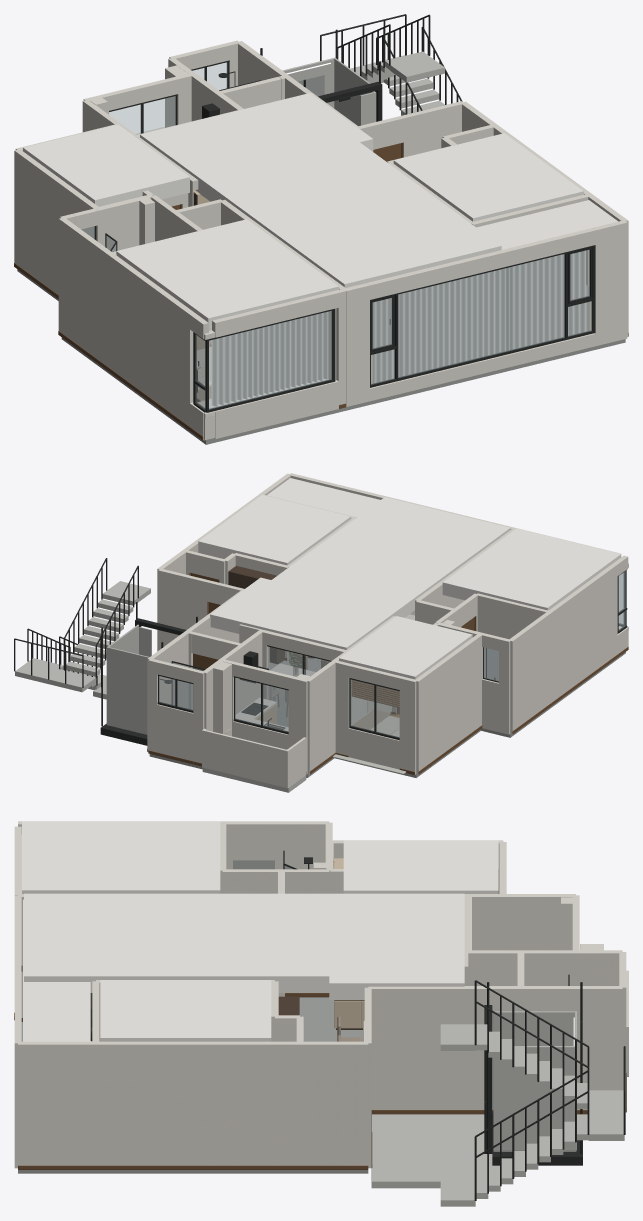
The model's file is apartment_v1.glb.
The picture shows the model from 3 angles, top to bottom: view 1: azimuth 30°, elevation 25°; view 2: azimuth 150°, elevation 25°; view 3: azimuth 270°, elevation 25°; orthographic projection. The views are drawn at different scales.
Parts seen in each view (by area): view 1: Living center slab, Living full south sheer, West master facade, Balcony central fixed 4200 nominal, Master center slab, Dining center slab, South bedroom center slab, Master bay large fixed, Master window sheer, Flex center slab, Flex west facade, Balcony window lintel (+34 smaller); view 2: Living center slab, West master facade, Master center slab, Dining center slab, Flex west facade, South bedroom center slab, Flex center slab, Equipment platform parapet north, Lift cabin rear panel, Entry north side B, Kitchen west upper, Master bath south (+40 smaller); view 3: East facade, Living center slab, East kitchen bath facade, Master center slab, Dining center slab, South bedroom center slab, Flex center slab, Public lobby floor, Lift cabin side panel.001, Kitchen bath partition, West master facade, Balcony lowered ceiling (+22 smaller).
Boxes of the visible parts, x1,y1,x2,y2 form: Living center slab: [203, 142, 501, 286]; Living full south sheer: [373, 250, 588, 383]; West master facade: [58, 218, 208, 440]; Balcony central fixed 4200 nominal: [398, 254, 564, 377]; Master center slab: [116, 219, 338, 321]; Dining center slab: [140, 93, 373, 183]; South bedroom center slab: [393, 133, 583, 221]; Master bay large fixed: [209, 311, 331, 409]; Master window sheer: [211, 312, 328, 406]; Flex center slab: [23, 124, 189, 202]; Flex west facade: [14, 150, 99, 294]; Balcony window lintel: [367, 228, 595, 299]; Living center slab: [271, 497, 510, 612]; West master facade: [510, 555, 628, 734]; Master center slab: [442, 528, 621, 610]; Dining center slab: [210, 577, 397, 649]; Flex west facade: [415, 633, 482, 774]; South bedroom center slab: [198, 495, 350, 565]; Flex center slab: [339, 616, 472, 678]; Equipment platform parapet north: [202, 729, 288, 788]; Lift cabin rear panel: [106, 647, 149, 733]; Entry north side B: [158, 569, 208, 650]; Kitchen west upper: [306, 660, 335, 774]; Master bath south: [477, 593, 550, 680]; East facade: [18, 1041, 368, 1165]; Living center slab: [24, 893, 329, 979]; East kitchen bath facade: [368, 986, 622, 1109]; Master center slab: [22, 821, 220, 893]; Dining center slab: [329, 893, 464, 986]; South bedroom center slab: [100, 980, 271, 1041]; Flex center slab: [343, 840, 498, 893]; Public lobby floor: [371, 1114, 492, 1188]; Lift cabin side panel.001: [493, 1046, 576, 1150]; Kitchen bath partition: [468, 950, 622, 985]; West master facade: [18, 821, 329, 869]; Balcony lowered ceiling: [23, 899, 90, 1041].
Bounding box in the file's own units: 12.03 × 4.12 × 12.26.
